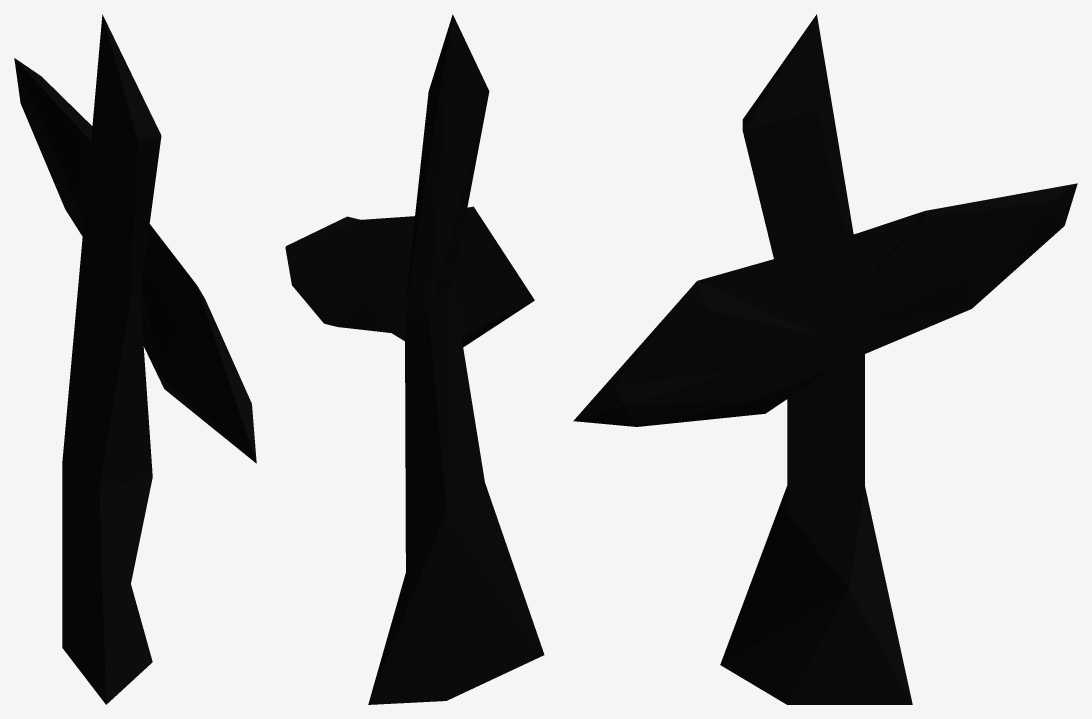
File: desert_plane_sign03.FBX
The picture shows the model from 3 angles, left to right: view 1: azimuth 30°, elevation 25°; view 2: azimuth 150°, elevation 25°; view 3: azimuth 270°, elevation 25°; orthographic projection. The views are drawn at different scales.
Visible parts, largest first — view 1: Box006; view 2: Box006; view 3: Box006.
Part boxes in pixels (x1,y1,x2,y2): Box006: [14, 14, 256, 704]; Box006: [285, 14, 544, 704]; Box006: [573, 14, 1077, 704].
Size of the model in its own units: 2.17 by 13.44 by 9.14.
Materials: 1 (1 with a texture image).
